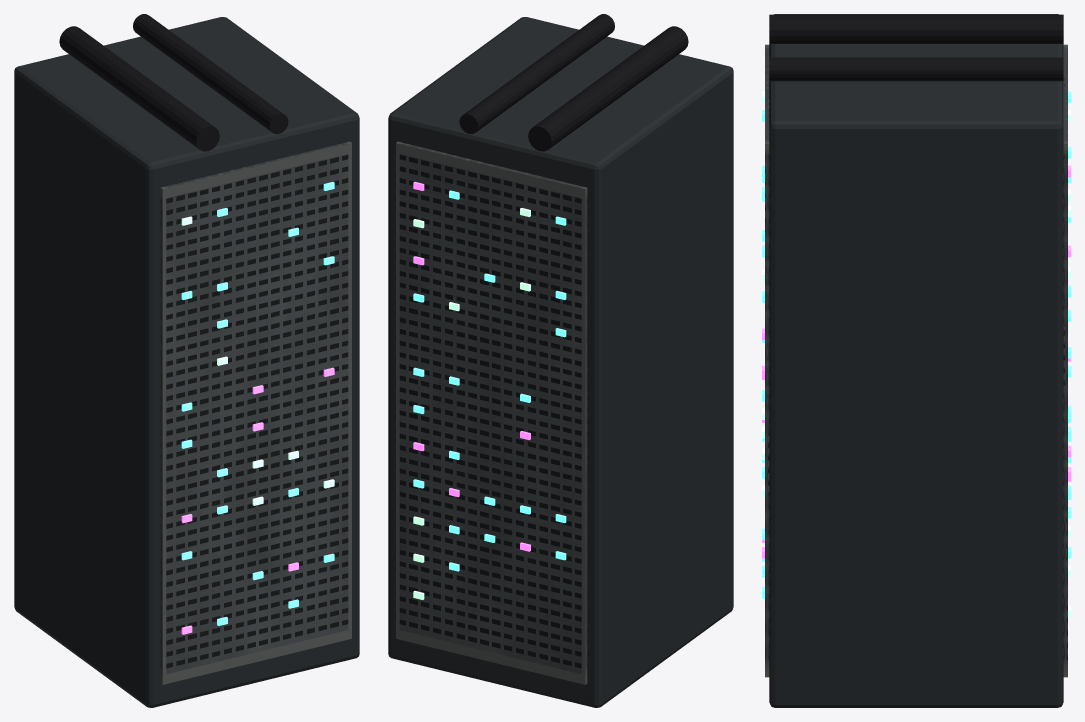
Rendered from server_rack.glb.
3 renders of one model, left to right at view 1: azimuth 30°, elevation 25°; view 2: azimuth 150°, elevation 25°; view 3: azimuth 270°, elevation 25°, orthographic. The views are drawn at different scales.
Visible parts, largest first — view 1: server_rack; view 2: server_rack; view 3: server_rack.
Boxes of the visible parts, x1,y1,x2,y2 form: server_rack: (14,14,359,707); server_rack: (388,14,733,707); server_rack: (762,14,1070,707).
Size of the model in its own units: 0.9 by 2.3 by 1.05.
Materials: 6 (1 with a texture image).
